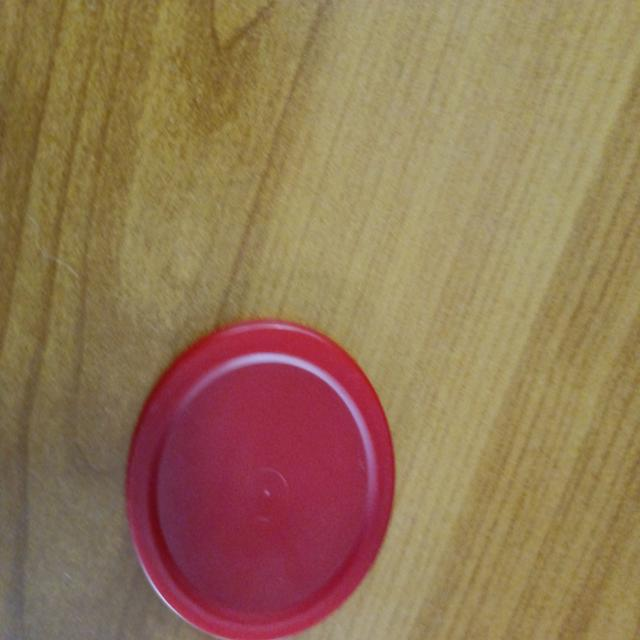chip: (124, 319, 392, 639)
